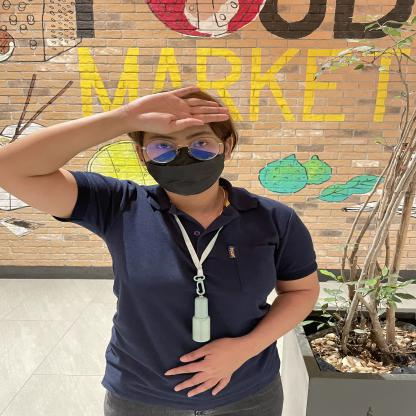Sick: (72, 59, 256, 137)
